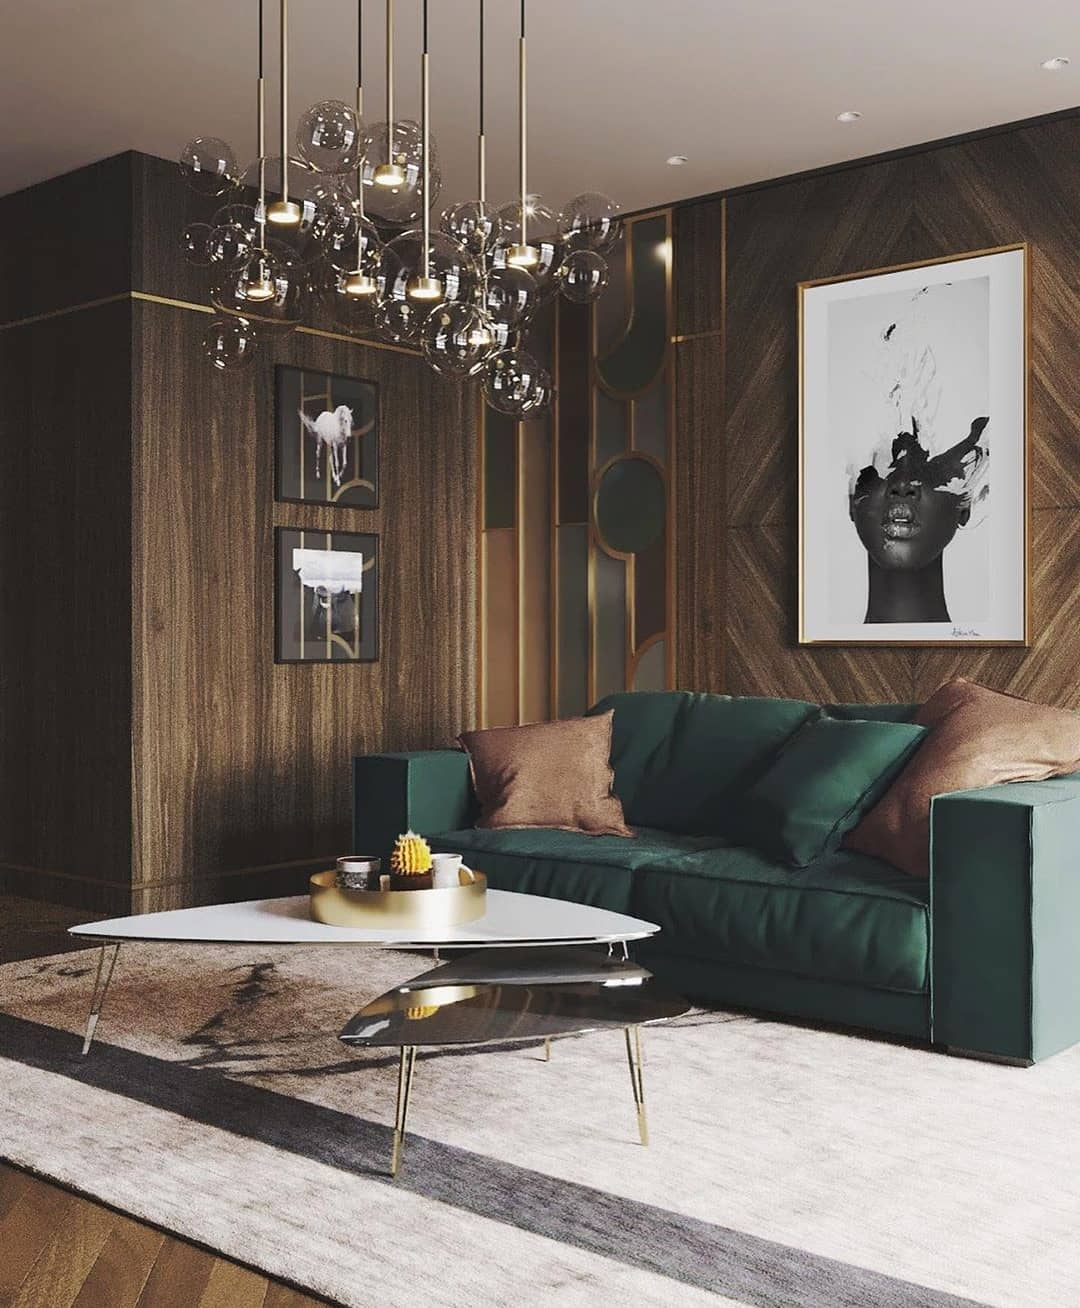bantal: (724, 714, 886, 858), (459, 724, 631, 831)
gelas: (332, 846, 381, 896), (429, 852, 473, 893)
lukisan: (781, 238, 1039, 658), (268, 356, 385, 514), (269, 523, 382, 672)
meja: (60, 869, 690, 1164)
sova: (371, 677, 1071, 1076)
tanaman: (391, 827, 435, 896)
